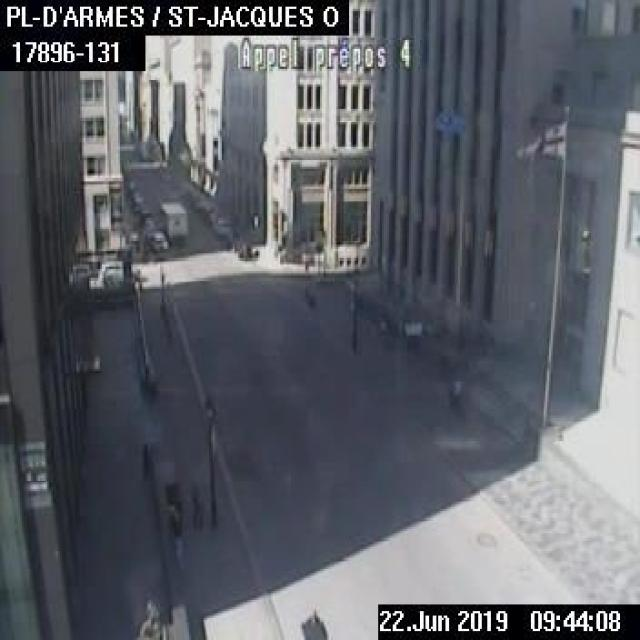pedestrian: (168, 498, 181, 565), (190, 490, 200, 528)
vehicle: (158, 199, 187, 242), (98, 260, 138, 280), (146, 229, 166, 250), (213, 217, 232, 236)
